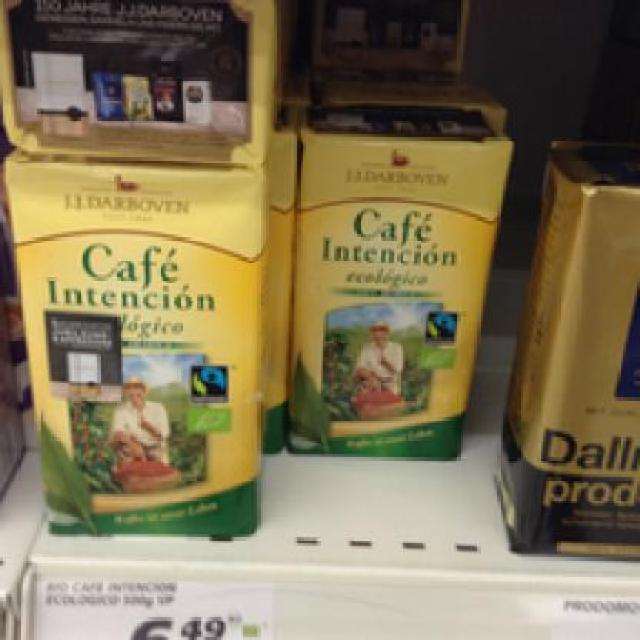Coffee: (0, 146, 263, 540), (282, 94, 508, 454), (488, 132, 638, 548)
